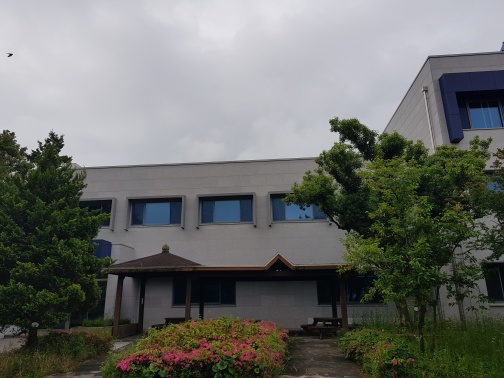College of Social Sciences: (54, 36, 504, 328), (99, 131, 363, 341)
